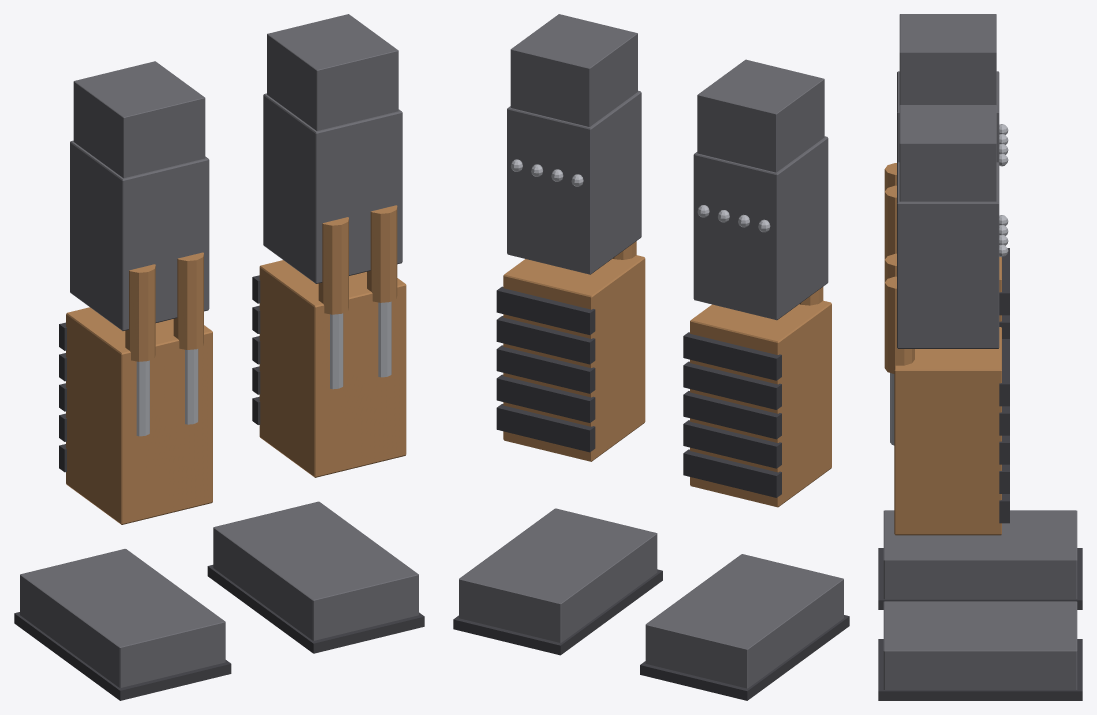
The model's file is crusher-tread.glb.
3 views of the same model, side by side, from view 1: azimuth 30°, elevation 25°; view 2: azimuth 150°, elevation 25°; view 3: azimuth 270°, elevation 25° (orthographic). The views are drawn at different scales.
Visible parts, largest first — view 1: shin_l, shin_r, foot_l, foot_r, thigh_l, thigh_r, hip_r, hip_l, sole_l, sole_r, sleeve_l, sleeve.003_r (+6 smaller); view 2: thigh_r, thigh_l, foot_l, foot_r, shin_l, shin_r, hip_r, hip_l, sole_l, sole_r, tread2_l, tread1_l (+8 smaller); view 3: shin_l, foot_l, thigh_l, foot_r, hip_l, hip_r, sole_l, sleeve_l, sole_r, sleeve.002_r, thigh_r, tread0_l (+2 smaller).
Part boxes in pixels (bbox=[...]): shin_l: bbox=[259, 260, 406, 477]; shin_r: bbox=[66, 307, 212, 524]; foot_l: bbox=[213, 501, 418, 640]; foot_r: bbox=[20, 549, 225, 687]; thigh_l: bbox=[263, 93, 402, 283]; thigh_r: bbox=[70, 140, 209, 330]; hip_r: bbox=[73, 61, 205, 178]; hip_l: bbox=[267, 14, 398, 130]; sole_l: bbox=[207, 565, 424, 653]; sole_r: bbox=[14, 612, 231, 700]; sleeve_l: bbox=[367, 205, 397, 302]; sleeve.003_r: bbox=[125, 264, 155, 361]; thigh_r: bbox=[693, 136, 828, 320]; thigh_l: bbox=[507, 90, 641, 274]; foot_l: bbox=[459, 508, 657, 642]; foot_r: bbox=[645, 554, 843, 688]; shin_l: bbox=[503, 255, 645, 461]; shin_r: bbox=[690, 300, 831, 507]; hip_r: bbox=[697, 59, 824, 172]; hip_l: bbox=[510, 14, 637, 126]; sole_l: bbox=[453, 569, 662, 655]; sole_r: bbox=[640, 615, 849, 700]; tread2_l: bbox=[496, 345, 595, 393]; tread1_l: bbox=[496, 316, 595, 364]; shin_l: bbox=[894, 327, 1001, 535]; foot_l: bbox=[883, 601, 1077, 689]; thigh_l: bbox=[897, 162, 999, 348]; foot_r: bbox=[883, 510, 1077, 599]; hip_l: bbox=[899, 105, 996, 201]; hip_r: bbox=[899, 14, 996, 104]; sole_l: bbox=[878, 639, 1082, 700]; sleeve_l: bbox=[884, 276, 914, 373]; sole_r: bbox=[878, 548, 1082, 609]; sleeve.002_r: bbox=[884, 185, 896, 259]; thigh_r: bbox=[897, 71, 999, 162]; tread0_l: bbox=[999, 339, 1009, 406].
Size of the model in its own units: 0.63 by 1.13 by 0.38.
